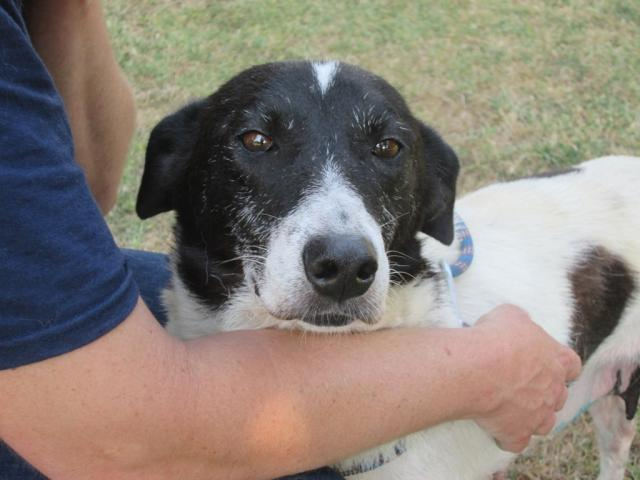Dog: (136, 57, 640, 479)
